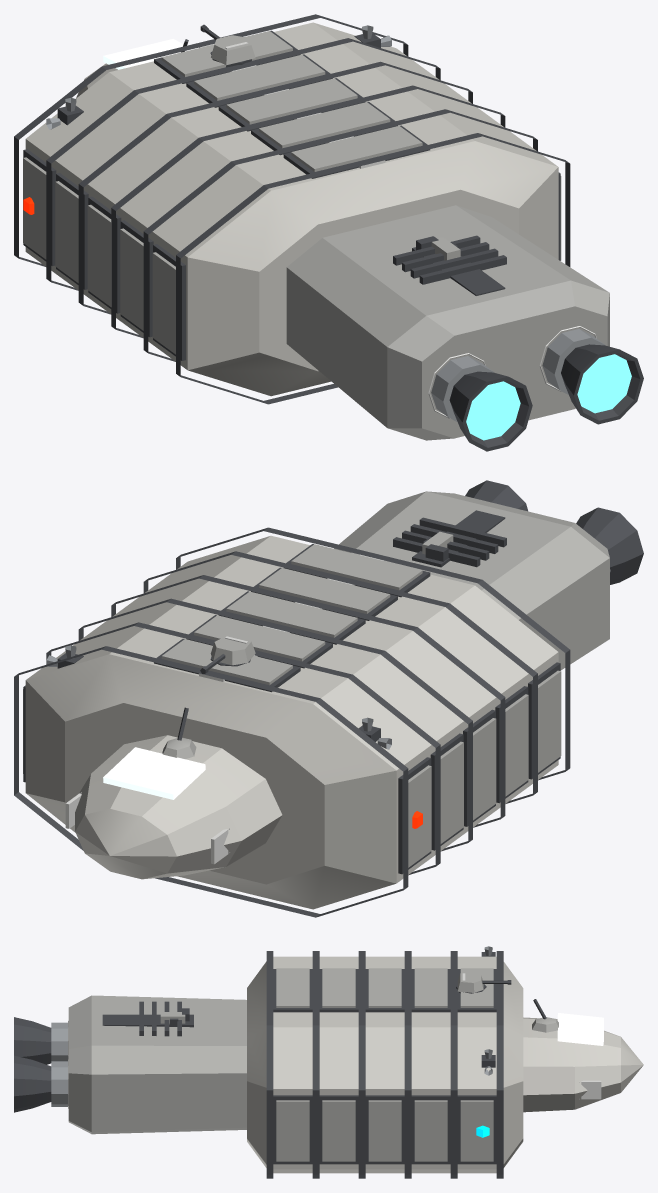
The model's file is unit_trader_100.glb.
The picture shows the model from 3 angles, top to bottom: view 1: azimuth 30°, elevation 25°; view 2: azimuth 150°, elevation 25°; view 3: azimuth 270°, elevation 25°; orthographic projection. The views are drawn at different scales.
Visible parts, largest first — view 1: Hull, Turret_4; view 2: Hull, Turret_4; view 3: Hull, Turret_4.
Part boxes in pixels (x1=…): Hull: x1=14, y1=14, x2=643, y2=451; Turret_4: x1=200, y1=24, x2=255, y2=67; Hull: x1=14, y1=480, x2=643, y2=917; Turret_4: x1=200, y1=635, x2=255, y2=673; Hull: x1=14, y1=946, x2=643, y2=1178; Turret_4: x1=456, y1=972, x2=511, y2=993.
Bounding box in the file's own units: 1.03 × 0.5761 × 2.
